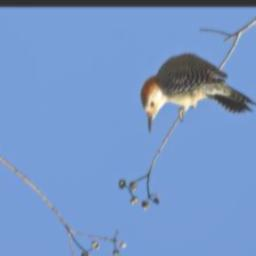Woodpecker: (130, 52, 256, 137)
